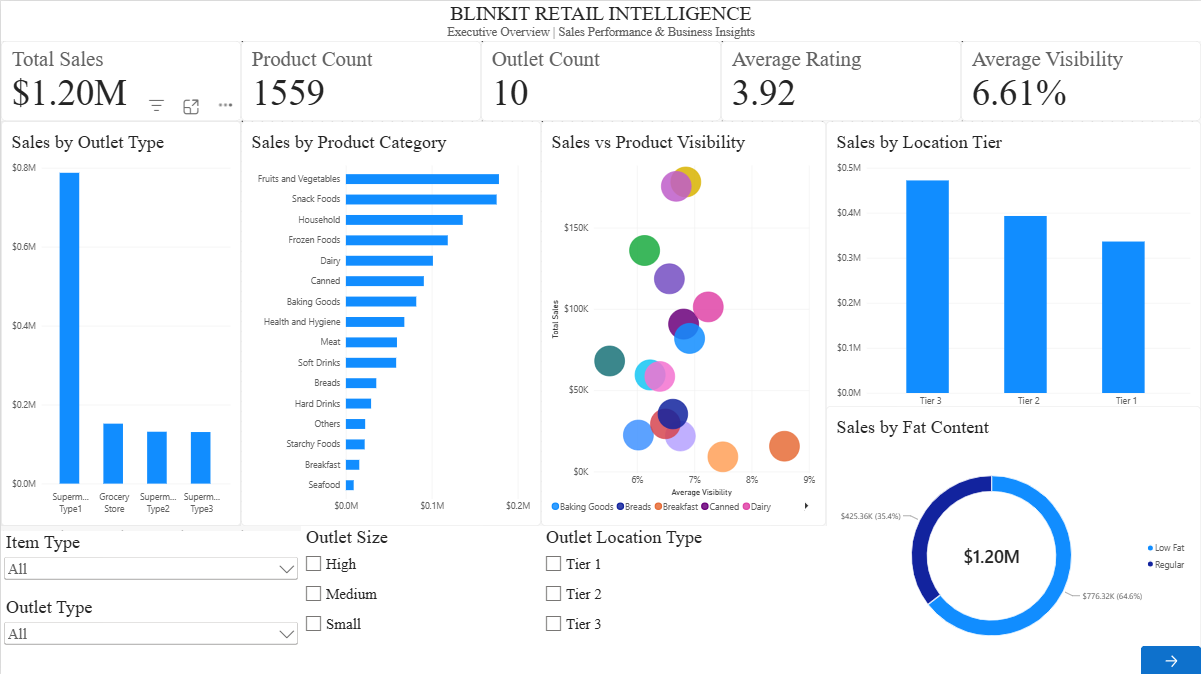

The page's visual inventory and layout, read from the dashboard file:
{"tool":"powerbi","page":{"name":"Executive Overview","canvas":[1920,1080],"ordinal":0},"visuals":[{"type":"cardVisual","fields":{"Data":["_Measures.Total Sales"]},"box":[0,64,384,128],"z":0},{"type":"cardVisual","fields":{"Data":["_Measures.Product Count"]},"box":[384,64,384,128],"z":1000},{"type":"cardVisual","fields":{"Data":["_Measures.Outlet Count"]},"box":[768,64,384,128],"z":2000},{"type":"cardVisual","fields":{"Data":["_Measures.Average Rating"]},"box":[1152,64,384,128],"z":3000},{"type":"cardVisual","fields":{"Data":["_Measures.Average Visibility"]},"box":[1536,64,384,128],"z":4000},{"type":"clusteredColumnChart","title":"Sales by Outlet Type","fields":{"Category":["Fact_Retail.Outlet Type"],"Y":["_Measures.Total Sales"]},"box":[0,192,384,648],"z":5000},{"type":"clusteredBarChart","title":"Sales by Product Category","fields":{"Category":["Fact_Retail.Item Type"],"Y":["_Measures.Total Sales"]},"box":[384,192,480,648],"z":6000},{"type":"clusteredColumnChart","title":"Sales by Location Tier","fields":{"Category":["Fact_Retail.Outlet Location Type"],"Y":["_Measures.Total Sales"]},"box":[1320,192,600,480],"z":7000},{"type":"scatterChart","title":"Sales vs Product Visibility","fields":{"Category":["Fact_Retail.Item Type"],"Series":["Fact_Retail.Item Type"],"Size":["_Measures.Average Rating"],"X":["_Measures.Average Visibility"],"Y":["_Measures.Total Sales"]},"box":[864,192,456,648],"z":8000},{"type":"donutChart","title":"Sales by Fat Content","fields":{"Category":["Fact_Retail.Item Fat Content"],"Y":["_Measures.Total Sales"]},"box":[1320,648,600,432],"z":9000},{"type":"slicer","fields":{"Values":["Fact_Retail.Outlet Location Type"]},"box":[864,840,464,240],"z":10000},{"type":"slicer","fields":{"Values":["Fact_Retail.Outlet Size"]},"box":[480,840,384,240],"z":11000},{"type":"slicer","fields":{"Values":["Fact_Retail.Item Type"]},"box":[0,848,480,112],"z":12000},{"type":"slicer","fields":{"Values":["Fact_Retail.Outlet Type"]},"box":[0,952,480,128],"z":13000},{"type":"actionButton","box":[1824,1032,96,48],"z":14000},{"type":"textbox","box":[100,100,300,300],"z":15000},{"type":"textbox","box":[100,100,300,300],"z":16000},{"type":"textbox","title":"BLINKIT RETAIL INTELLIGENCE","box":[0,0,1920,64],"z":17000}]}

Visuals, with their boxes in screenshot pixels (x1, y1, x2, y2), scaled from the page's 1920x1080 canvas onto the 1201x674 screenshot:
cardVisual - _Measures.Total Sales: {"x1": 0, "y1": 40, "x2": 240, "y2": 120}
cardVisual - _Measures.Product Count: {"x1": 240, "y1": 40, "x2": 480, "y2": 120}
cardVisual - _Measures.Outlet Count: {"x1": 480, "y1": 40, "x2": 721, "y2": 120}
cardVisual - _Measures.Average Rating: {"x1": 721, "y1": 40, "x2": 961, "y2": 120}
cardVisual - _Measures.Average Visibility: {"x1": 961, "y1": 40, "x2": 1200, "y2": 120}
"Sales by Outlet Type" clusteredColumnChart: {"x1": 0, "y1": 120, "x2": 240, "y2": 524}
"Sales by Product Category" clusteredBarChart: {"x1": 240, "y1": 120, "x2": 540, "y2": 524}
"Sales by Location Tier" clusteredColumnChart: {"x1": 826, "y1": 120, "x2": 1200, "y2": 419}
"Sales vs Product Visibility" scatterChart: {"x1": 540, "y1": 120, "x2": 826, "y2": 524}
"Sales by Fat Content" donutChart: {"x1": 826, "y1": 404, "x2": 1200, "y2": 673}
slicer - Fact_Retail.Outlet Location Type: {"x1": 540, "y1": 524, "x2": 831, "y2": 673}
slicer - Fact_Retail.Outlet Size: {"x1": 300, "y1": 524, "x2": 540, "y2": 673}
slicer - Fact_Retail.Item Type: {"x1": 0, "y1": 529, "x2": 300, "y2": 599}
slicer - Fact_Retail.Outlet Type: {"x1": 0, "y1": 594, "x2": 300, "y2": 673}
actionButton: {"x1": 1141, "y1": 644, "x2": 1200, "y2": 673}
textbox: {"x1": 63, "y1": 62, "x2": 250, "y2": 250}
textbox: {"x1": 63, "y1": 62, "x2": 250, "y2": 250}
"BLINKIT RETAIL INTELLIGENCE" textbox: {"x1": 0, "y1": 0, "x2": 1200, "y2": 40}
